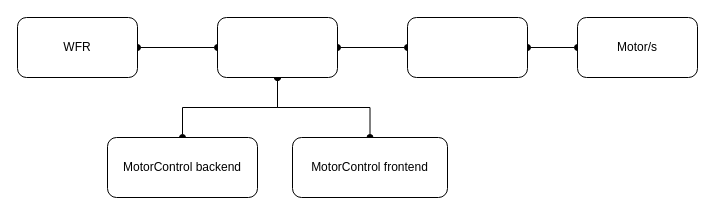
The diagram is 715 pixels wide and 215 high, and some of its shapes have lost their labels. Here are the shapes that lost their labels. From the top down, the box of each, then its label:
(216, 16, 338, 78): SBC
(406, 16, 528, 78): PLC/VFD
